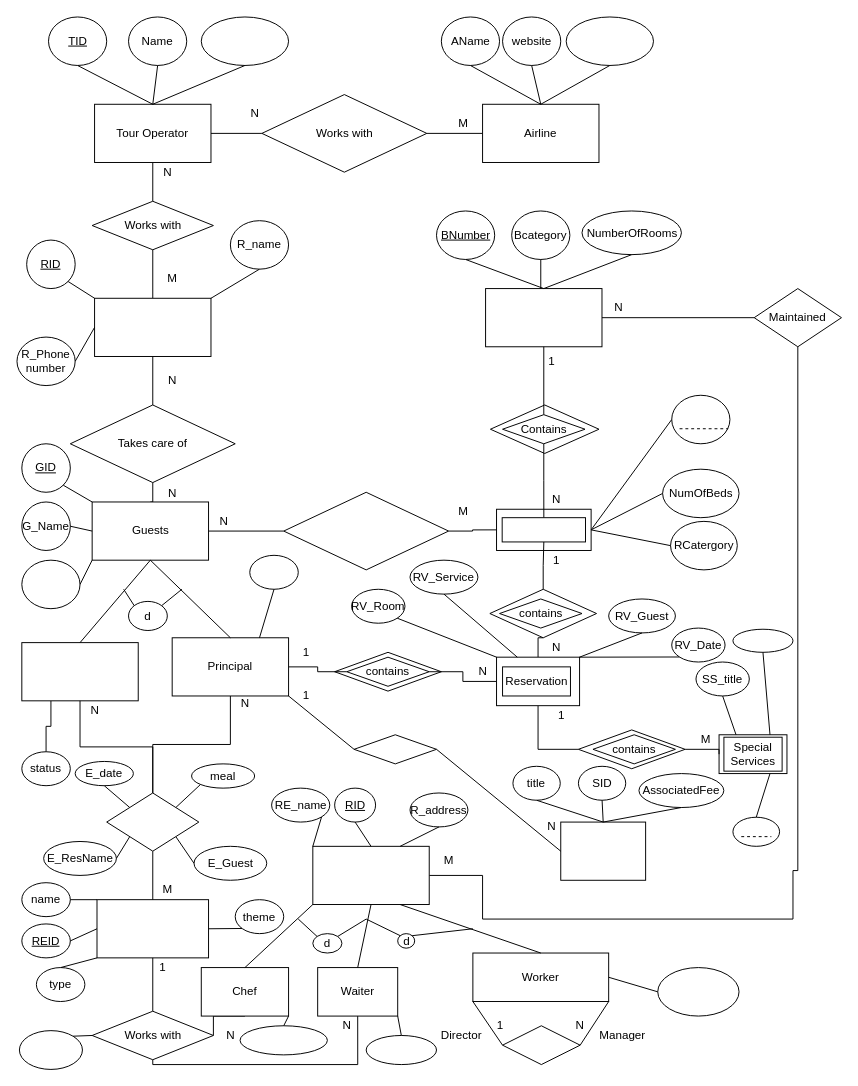
Some shapes in this 858 by 1086 pixel diagram are drawn without their labels. The box of each missing label's shape, as (x1, y1, x2, y2) in pixels:
Available Services: (560, 821, 646, 880)
Building: (485, 288, 602, 347)
C_Catergory: (239, 1025, 327, 1055)
charges: (249, 554, 298, 589)
ContactNumber: (200, 16, 289, 65)
Eats at: (106, 792, 199, 851)
G_Address: (21, 559, 80, 609)
Languages: (365, 1035, 436, 1065)
PhoneNumber: (565, 16, 653, 65)
Regular: (21, 642, 138, 701)
ReportsTo: (502, 1025, 580, 1065)
Resort Employees: (312, 845, 429, 905)
Resort Represenative: (94, 297, 211, 356)
Resturants: (96, 899, 209, 958)
RNumber: (671, 394, 730, 444)
Room: (501, 517, 585, 542)
Specialization: (657, 967, 739, 1016)
SS_Fee: (732, 628, 793, 652)
SSID: (732, 816, 780, 846)
Stays in: (283, 491, 449, 570)
timetable: (18, 1030, 82, 1069)
Uses: (353, 734, 436, 764)
